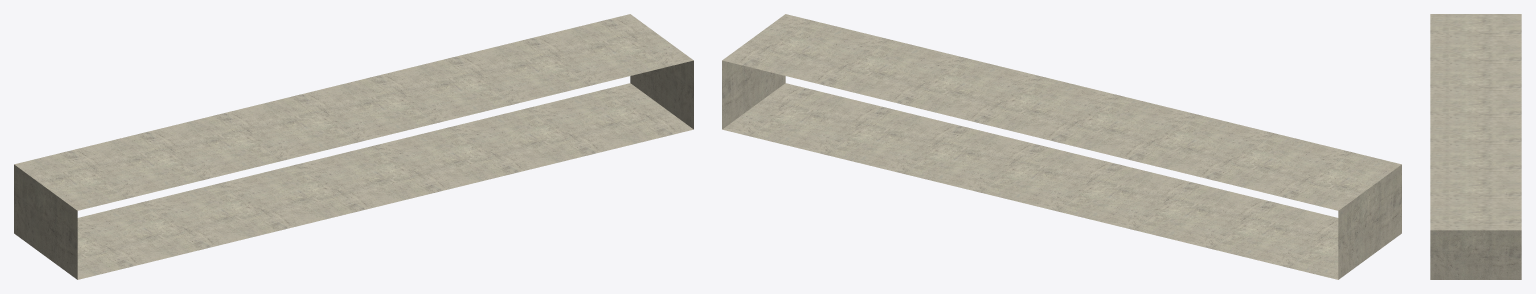
File: BridgeBase-28w-5l-3d.FBX
3 renders of one model, left to right at view 1: azimuth 30°, elevation 25°; view 2: azimuth 150°, elevation 25°; view 3: azimuth 270°, elevation 25°, orthographic. The views are drawn at different scales.
Visible parts, largest first — view 1: BridgeBase-28-5-3; view 2: BridgeBase-28-5-3; view 3: BridgeBase-28-5-3.
Part boxes in pixels (x1,y1,x2,y2): BridgeBase-28-5-3: (14,14,693,279); BridgeBase-28-5-3: (722,14,1401,279); BridgeBase-28-5-3: (1430,14,1521,279).
Size of the model in its own units: 28 by 3 by 5.
